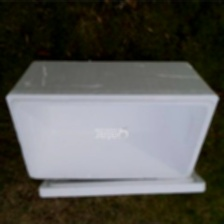foam_box: (2, 56, 222, 203)
